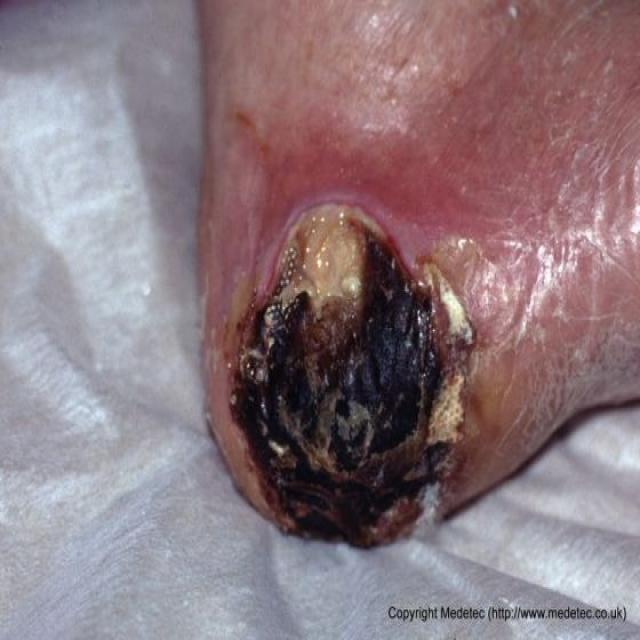Unstageable: (231, 210, 481, 543)
